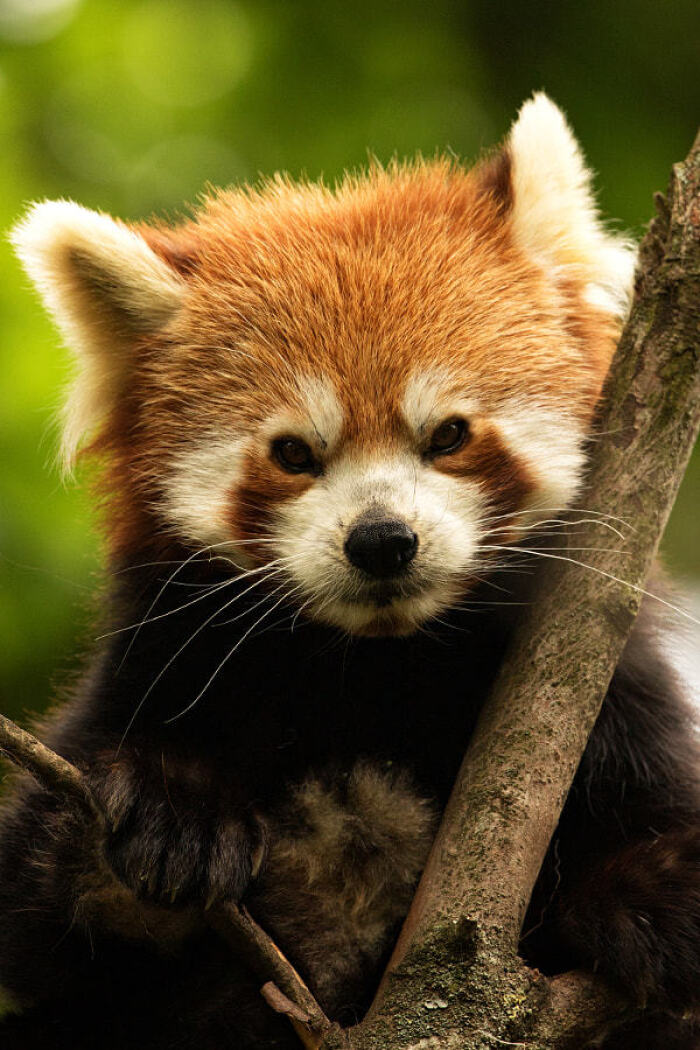raccoon: (5, 85, 693, 1050)
